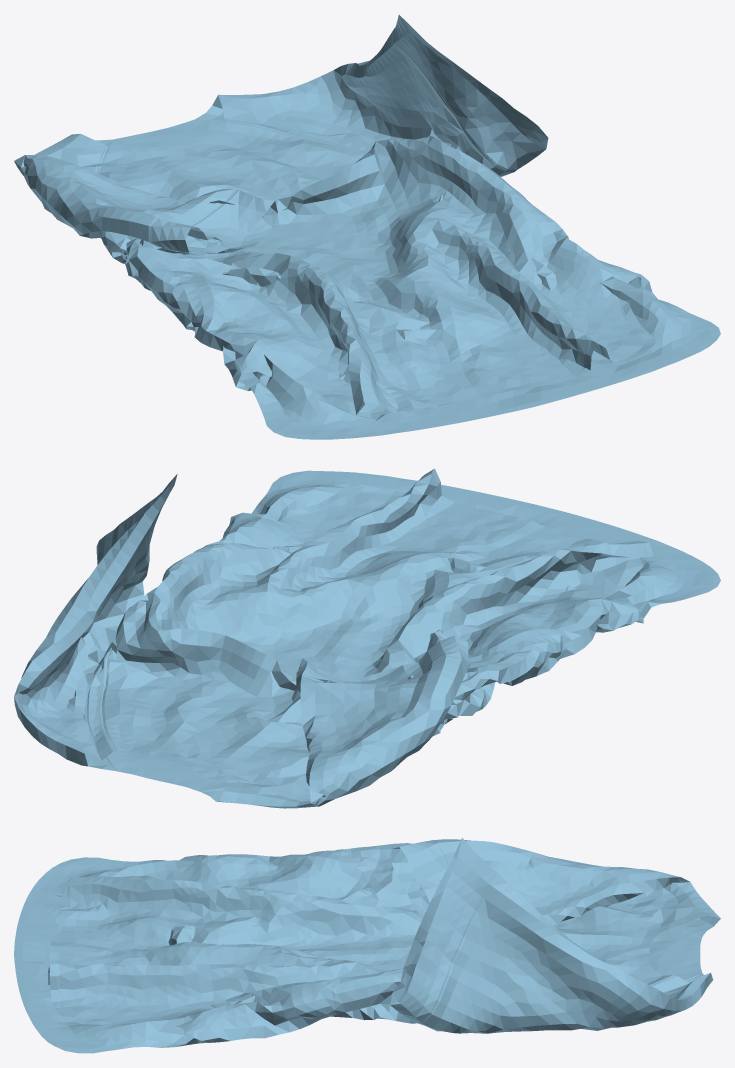
The model's file is frame_12.glb.
3 renders of one model, top to bottom at view 1: azimuth 30°, elevation 25°; view 2: azimuth 150°, elevation 25°; view 3: azimuth 270°, elevation 25°, orthographic. The views are drawn at different scales.
Parts seen in each view (by area): view 1: frame_12.obj; view 2: frame_12.obj; view 3: frame_12.obj.
Part boxes in pixels (left/top/right/bottom): frame_12.obj: left=14, top=14, right=720, bottom=439; frame_12.obj: left=14, top=468, right=720, bottom=808; frame_12.obj: left=14, top=838, right=720, bottom=1053.
Bounding box in the file's own units: 1.21 × 0.4978 × 1.81.
